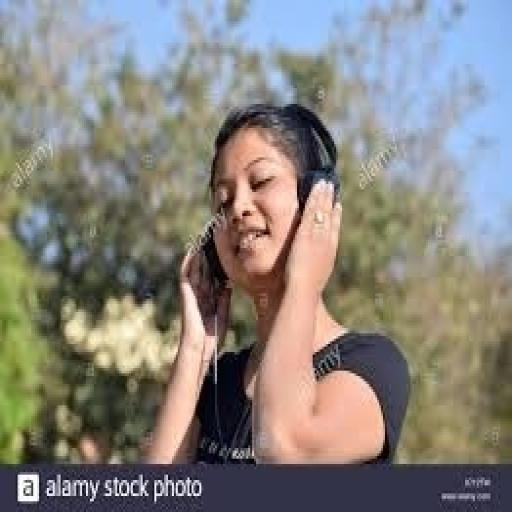listening_to_music: (139, 98, 414, 466)
